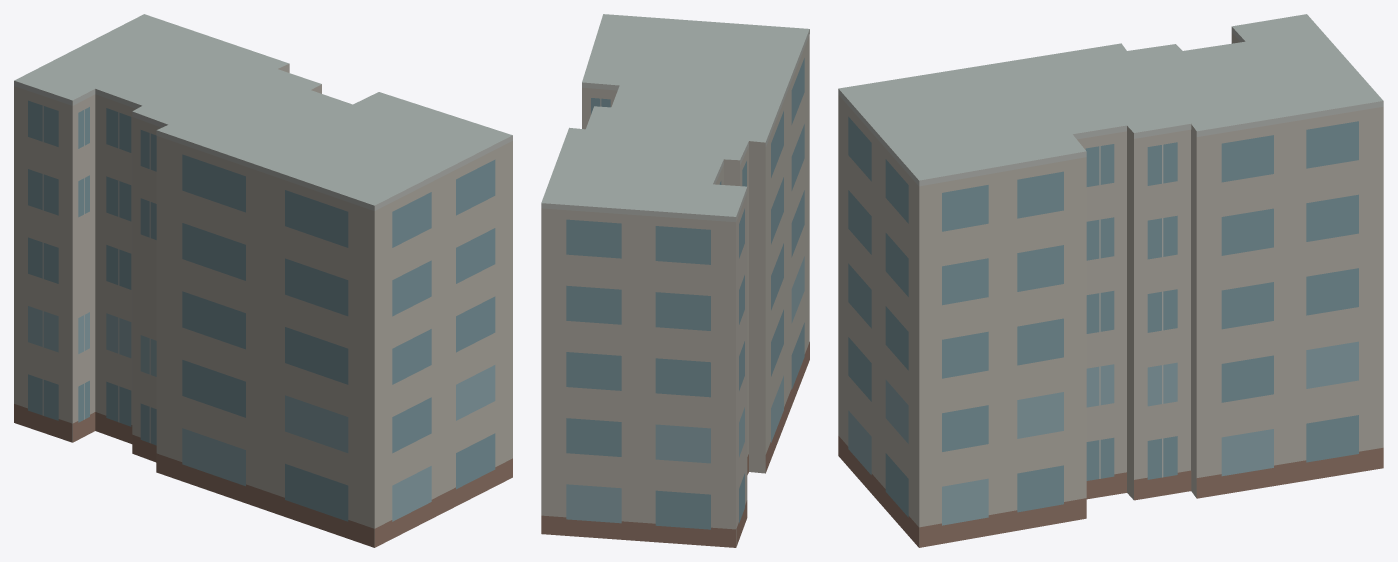
The model's file is survey-upis-32849878.glb.
3 views of the same model, side by side, from view 1: azimuth 30°, elevation 25°; view 2: azimuth 150°, elevation 25°; view 3: azimuth 270°, elevation 25° (orthographic). The views are drawn at different scales.
Visible parts, largest first — view 1: survey-upis-32849878.tmp; view 2: survey-upis-32849878.tmp; view 3: survey-upis-32849878.tmp.
Part boxes in pixels (box(x1,y1,x2,y2)): survey-upis-32849878.tmp: box(14, 14, 512, 547); survey-upis-32849878.tmp: box(541, 14, 809, 547); survey-upis-32849878.tmp: box(838, 14, 1383, 547).
Size of the model in its own units: 14.99 by 15.4 by 20.73.
